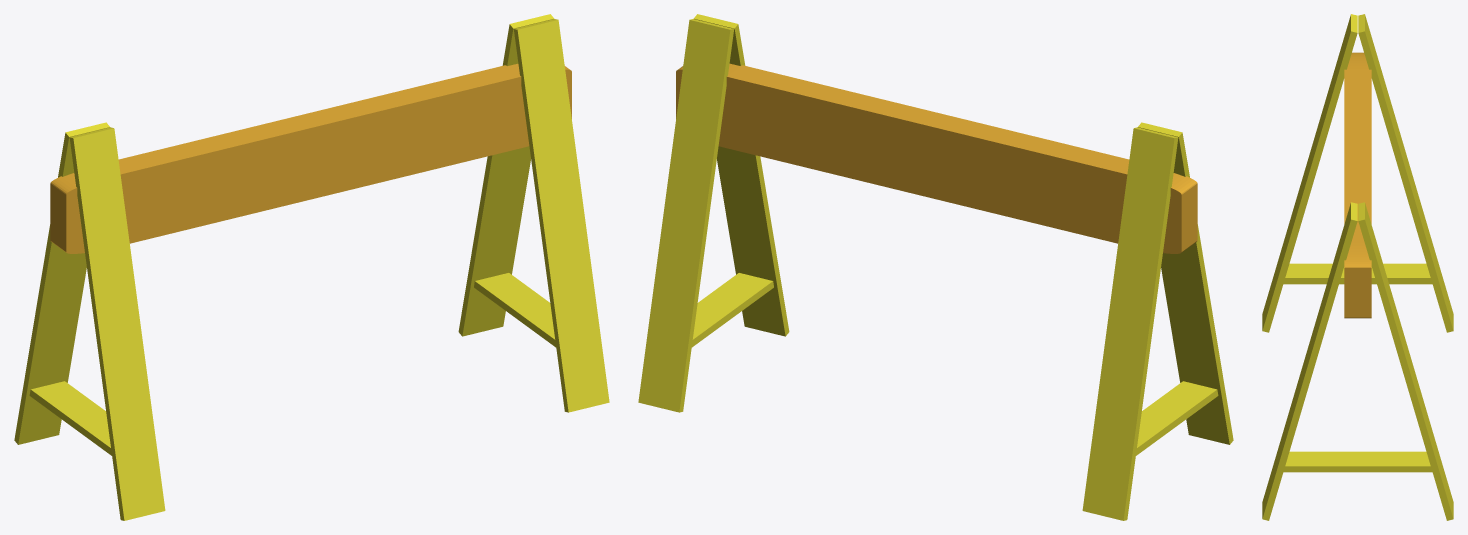
The model's file is trafficObstacle.glb.
3 renders of one model, left to right at view 1: azimuth 30°, elevation 25°; view 2: azimuth 150°, elevation 25°; view 3: azimuth 270°, elevation 25°, orthographic. The views are drawn at different scales.
Parts seen in each view (by area): view 1: Foots, Bar; view 2: Foots, Bar; view 3: Foots, Bar.
Part boxes in pixels (<box>): Foots: <box>14,14,609,520</box>; Bar: <box>50,63,571,253</box>; Foots: <box>638,14,1233,520</box>; Bar: <box>676,63,1197,253</box>; Foots: <box>1262,14,1453,520</box>; Bar: <box>1344,52,1371,318</box>.
Bounding box in the file's own units: 3.7 × 2.43 × 1.4.
